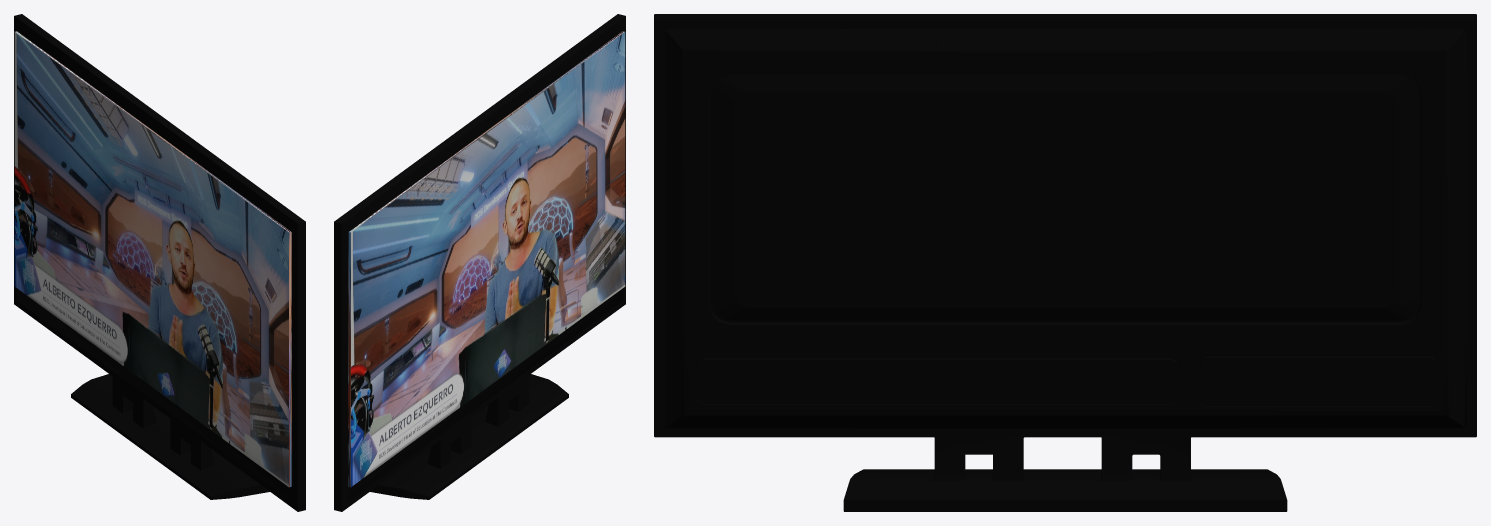
The picture shows the model from 3 angles, left to right: view 1: azimuth 30°, elevation 25°; view 2: azimuth 150°, elevation 25°; view 3: azimuth 270°, elevation 25°; orthographic projection. The views are drawn at different scales.
Visible parts, largest first — view 1: Cube, LED TV Flat Screen; view 2: Cube, LED TV Flat Screen; view 3: LED TV Flat Screen.
Part boxes in pixels (x1,y1,x2,y2): Cube: (14,31,291,487); LED TV Flat Screen: (14,14,305,511); Cube: (348,31,625,487); LED TV Flat Screen: (334,14,625,511); LED TV Flat Screen: (654,14,1476,511).
Bounding box in the file's own units: 0.1433 × 1.32 × 0.833.
Materials: 2 (2 with a texture image).
